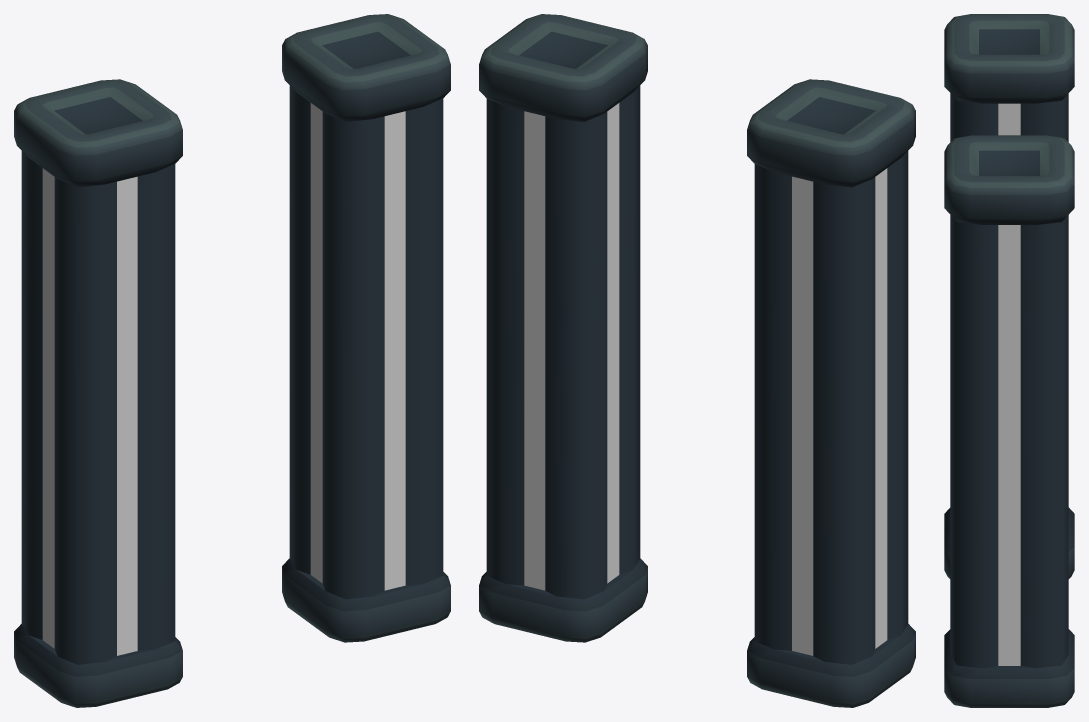
The model's file is Track_Vertical_Gold_Straight.fbx.
3 views of the same model, side by side, from view 1: azimuth 30°, elevation 25°; view 2: azimuth 150°, elevation 25°; view 3: azimuth 270°, elevation 25° (orthographic). The views are drawn at different scales.
Visible parts, largest first — view 1: Track_Vertical_Gold_Straight_LOD0; view 2: Track_Vertical_Gold_Straight_LOD0; view 3: Track_Vertical_Gold_Straight_LOD0.
Part boxes in pixels (<box>): Track_Vertical_Gold_Straight_LOD0: <box>14,14,450,707</box>; Track_Vertical_Gold_Straight_LOD0: <box>479,14,915,707</box>; Track_Vertical_Gold_Straight_LOD0: <box>944,14,1074,707</box>.
Size of what is drawn, in the model's own units: 0.7263 by 1.01 by 0.2263.
